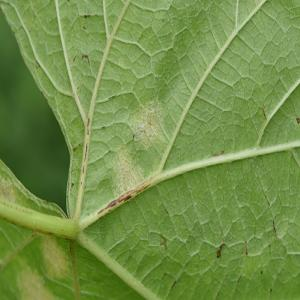Folha: (0, 0, 299, 299)
Fungo: (128, 98, 168, 151), (110, 141, 146, 198), (14, 267, 64, 300), (40, 233, 71, 282), (0, 173, 19, 206), (73, 52, 90, 66), (80, 53, 90, 66), (159, 234, 167, 250), (216, 242, 224, 258), (212, 150, 224, 158), (262, 105, 267, 120), (244, 240, 248, 255), (216, 248, 222, 258), (72, 54, 78, 62), (35, 60, 40, 69), (296, 117, 300, 125), (83, 14, 90, 18)
